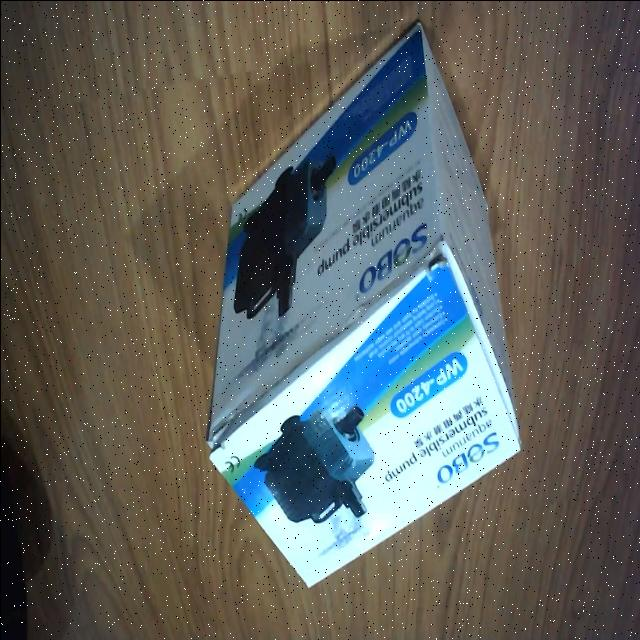SOBO_WP_4200: (201, 29, 523, 596)
